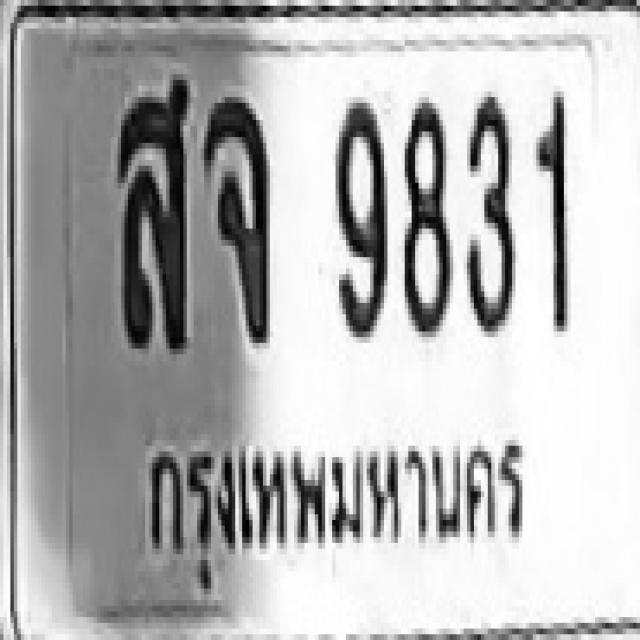1: (531, 91, 569, 332)
17ChorChan: (200, 91, 270, 343)
3: (464, 91, 516, 332)
49SorSuea: (116, 77, 188, 346)
8: (401, 97, 450, 332)
9: (334, 97, 386, 337)
Bangkok: (129, 419, 532, 563)
